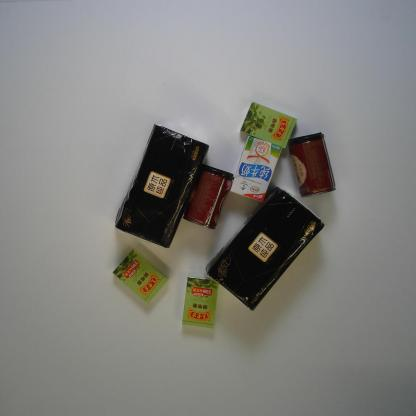Candy: (112, 248, 169, 305), (239, 100, 298, 149), (181, 275, 219, 330)
Canned Food: (182, 163, 235, 230), (286, 131, 337, 198)
Milk: (230, 135, 283, 203)
Tissue: (205, 184, 326, 312), (113, 121, 210, 250)
